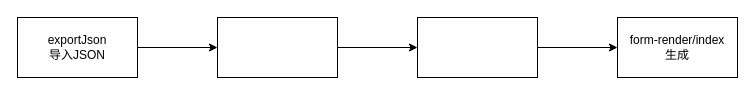
Some shapes in this 755 by 95 pixel diagram are drawn without their labels. The centre of each missing label's shape, as x and y in pixels:
编辑器生成组件: the point at 277,47
表单预览: the point at 477,47
